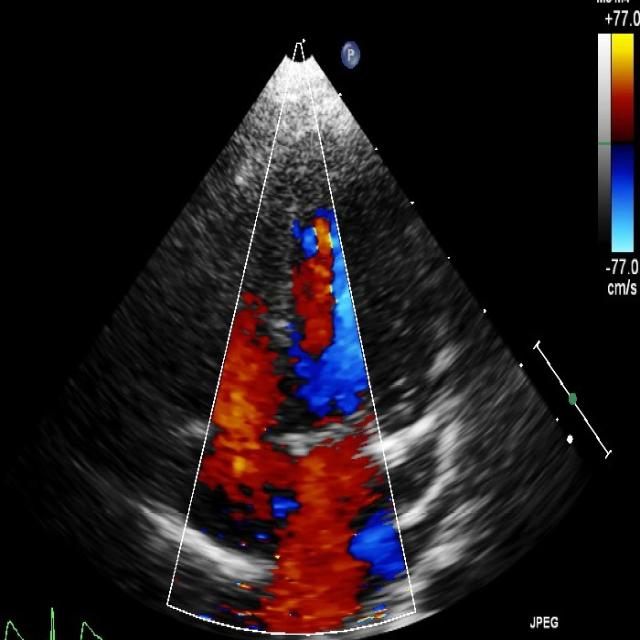ASDType2: (203, 421, 368, 560)
